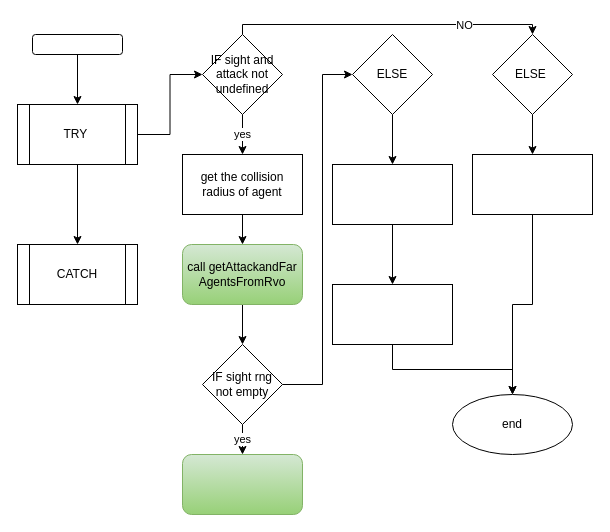
Image size: 610x532. Some labels were removed from this diagram. Here are the shapes that lost their labels. From the top down, the centre of each, then its label:
At [77,44]: "start".
At [392,194]: "set the sight and attack rng agent object".
At [532,184]: "User console".
At [392,314]: "return the search result".
At [242,484]: "call filterAgentBy AttckDmhn".
